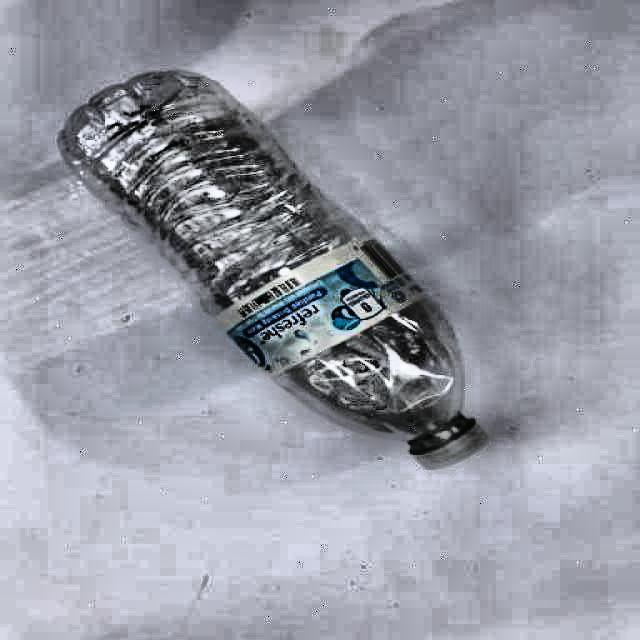plastic: (60, 71, 488, 468)
